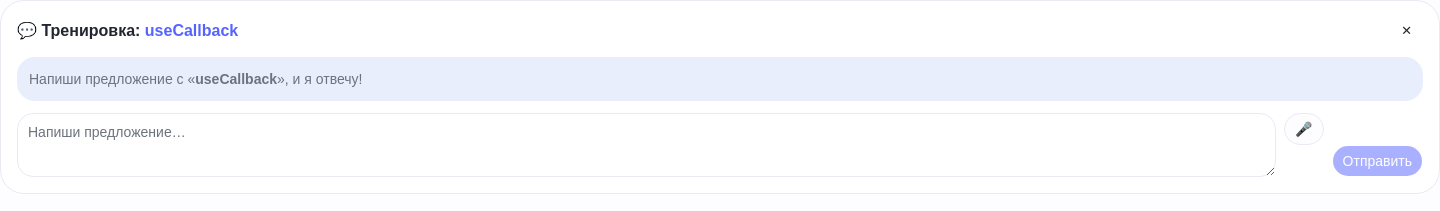
Scenario: DrillChat › fills the input from voice recognition
Click the button "🎤". click: (1304, 129)
box: left=1284, top=113, right=1324, bottom=145
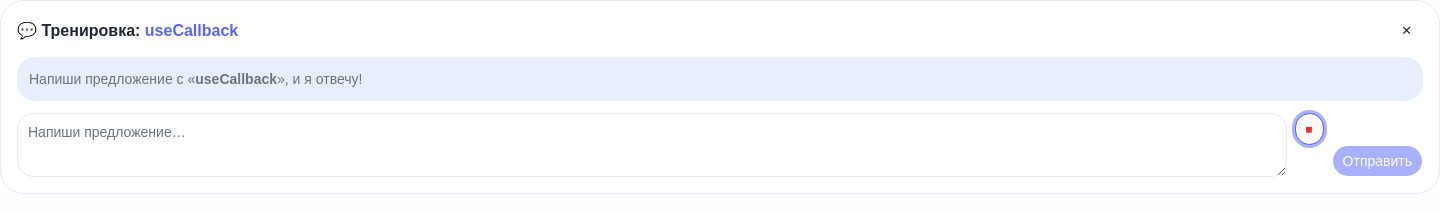
Click the button "⏹". click: (1309, 129)
box: left=1295, top=113, right=1324, bottom=145
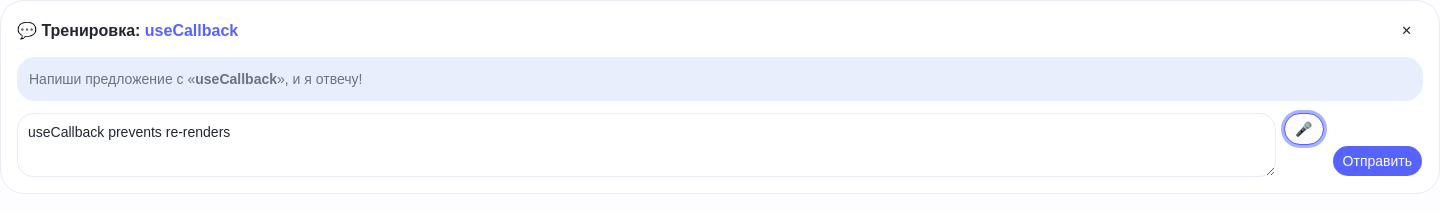
Now the text box with placeholder "Напиши предложение…" holds "useCallback prevents re-renders", box left=17, top=113, right=1276, bottom=177
